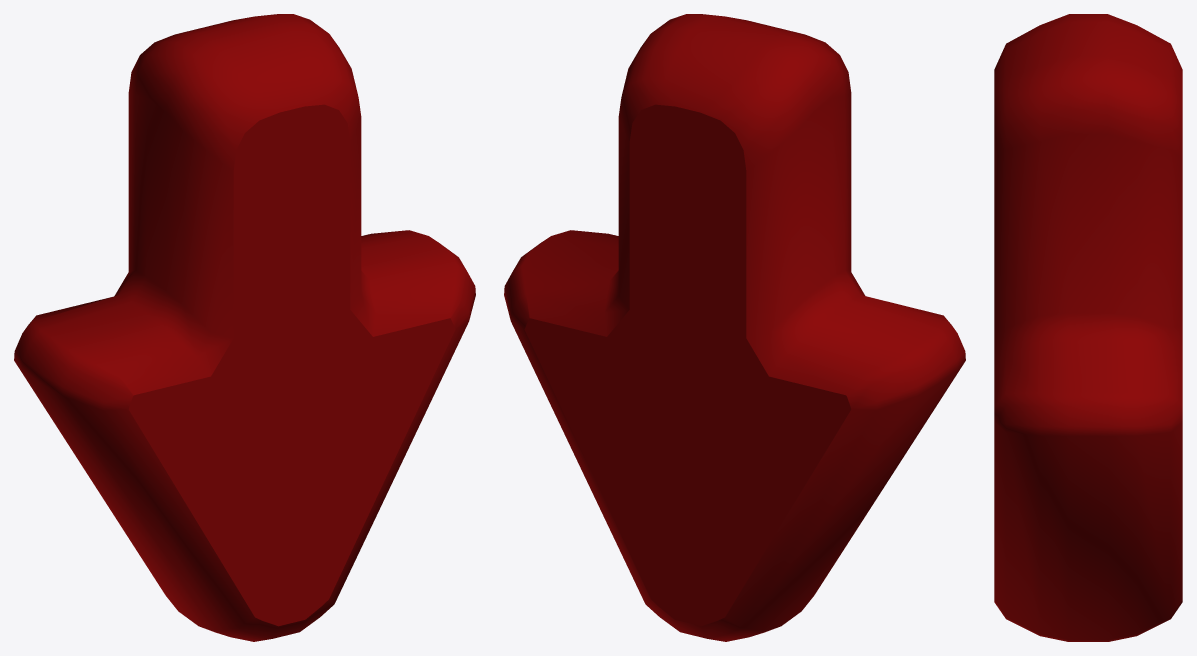
File: 3D_Arrow_2.FBX
3 views of the same model, side by side, from view 1: azimuth 30°, elevation 25°; view 2: azimuth 150°, elevation 25°; view 3: azimuth 270°, elevation 25° (orthographic).
Parts seen in each view (by area): view 1: 3D_Arrow_2; view 2: 3D_Arrow_2; view 3: 3D_Arrow_2.
Boxes of the visible parts, x1=… form: 3D_Arrow_2: x1=14, y1=14, x2=475, y2=641; 3D_Arrow_2: x1=504, y1=14, x2=965, y2=641; 3D_Arrow_2: x1=994, y1=14, x2=1182, y2=641.
Size of the model in its own units: 0.2451 by 0.3276 by 0.094.
